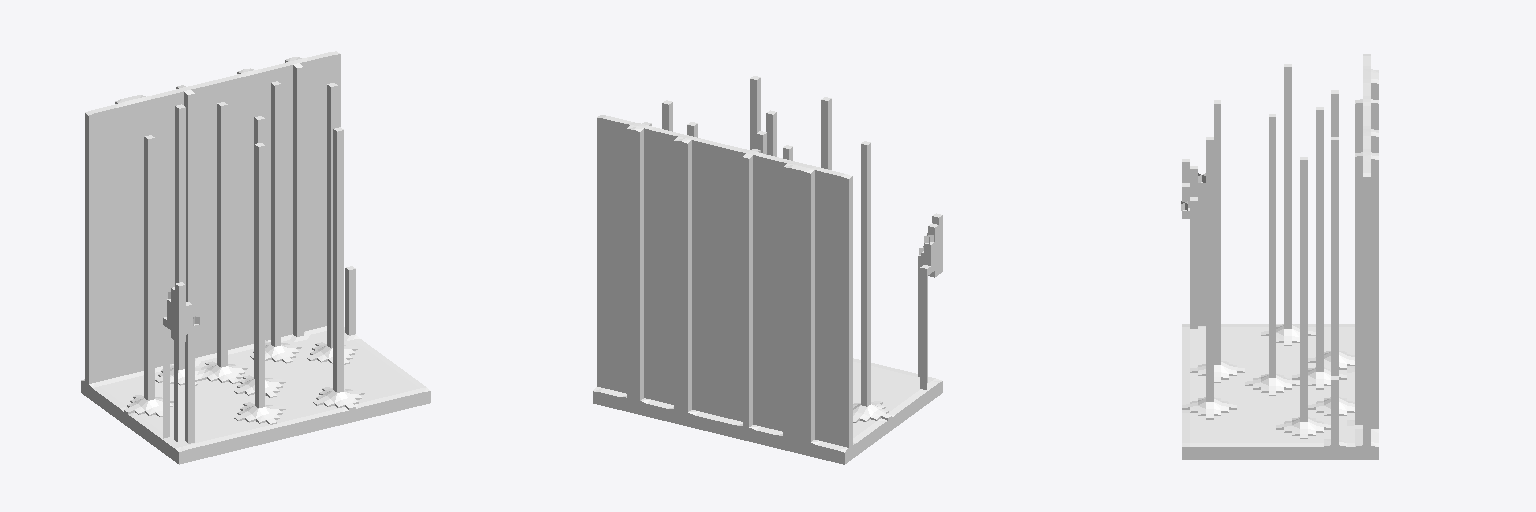
3 views of the same model, side by side, from view 1: azimuth 30°, elevation 25°; view 2: azimuth 150°, elevation 25°; view 3: azimuth 270°, elevation 25° (orthographic).
Parts seen in each view (by area): view 1: Floral_Caves_Hunt__-252_30_-260_to_-216_69_-236; view 2: Floral_Caves_Hunt__-252_30_-260_to_-216_69_-236; view 3: Floral_Caves_Hunt__-252_30_-260_to_-216_69_-236.
Part boxes in pixels (bbox=[...]): Floral_Caves_Hunt__-252_30_-260_to_-216_69_-236: bbox=[81, 51, 430, 464]; Floral_Caves_Hunt__-252_30_-260_to_-216_69_-236: bbox=[593, 76, 942, 464]; Floral_Caves_Hunt__-252_30_-260_to_-216_69_-236: bbox=[1181, 54, 1378, 459].
Bounding box in the file's own units: 37 × 39.89 × 25.09.